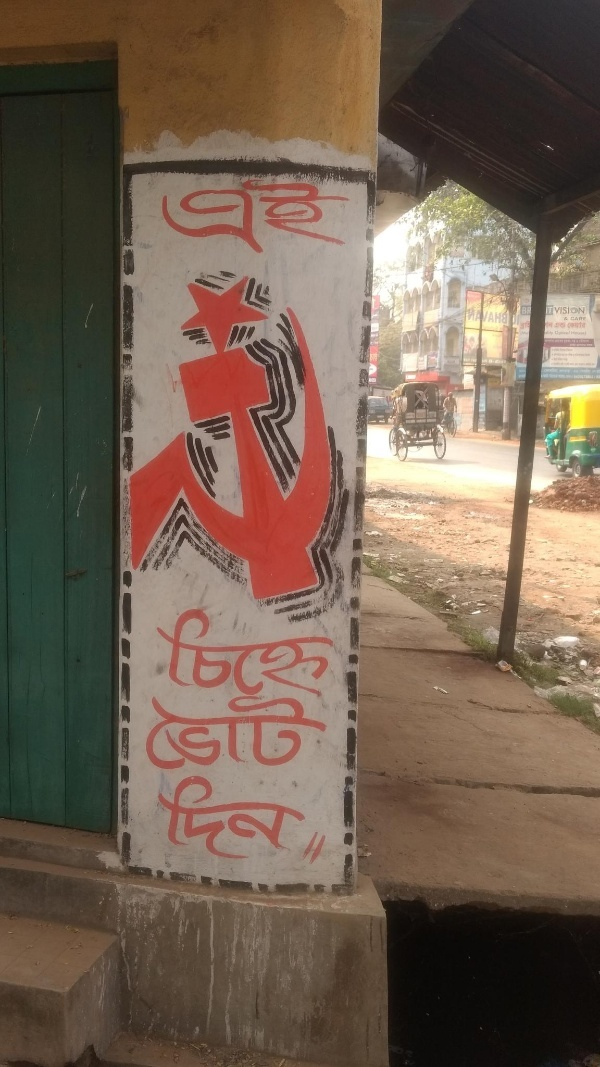text: (161, 769, 176, 868), (177, 769, 192, 868), (193, 769, 208, 868), (209, 769, 224, 868), (225, 769, 240, 868), (241, 769, 256, 868), (257, 769, 272, 868), (273, 769, 288, 868), (289, 769, 304, 868), (305, 769, 320, 868), (161, 605, 176, 700), (177, 605, 192, 700), (193, 605, 208, 700), (209, 605, 224, 700), (225, 605, 240, 700), (241, 605, 256, 700), (257, 605, 272, 700), (273, 605, 288, 700), (289, 605, 304, 700), (305, 605, 320, 700), (321, 605, 336, 700), (145, 177, 160, 259), (161, 177, 176, 259), (177, 177, 192, 259), (193, 177, 208, 259), (209, 177, 224, 259), (225, 177, 240, 259), (241, 177, 256, 259), (257, 177, 272, 259), (273, 177, 288, 259), (289, 177, 304, 259), (305, 177, 320, 259), (321, 177, 336, 259), (337, 177, 352, 259), (161, 695, 176, 771), (177, 695, 192, 771), (193, 695, 208, 771), (209, 695, 224, 771), (225, 695, 240, 771), (241, 695, 256, 771), (257, 695, 272, 771), (273, 695, 288, 771), (289, 695, 304, 771), (305, 695, 320, 771), (146, 695, 160, 771), (321, 769, 331, 868), (337, 605, 346, 700), (321, 695, 332, 771), (353, 177, 361, 259), (157, 605, 160, 700), (143, 177, 144, 259)
